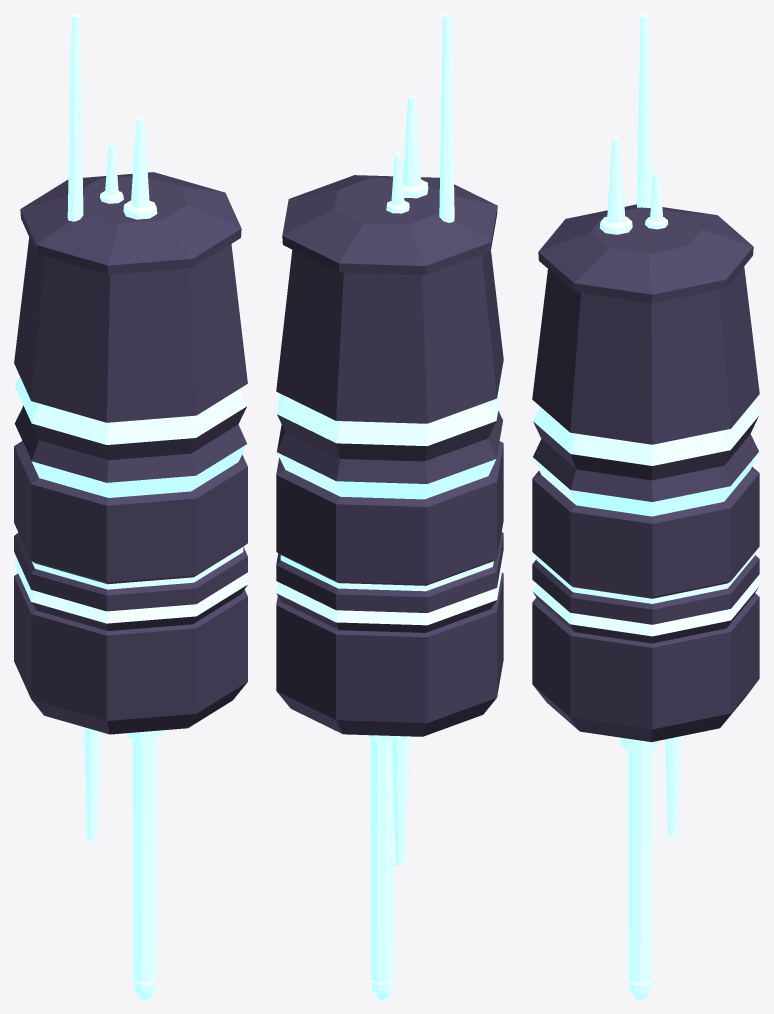
File: Fly_House_02.fbx
The picture shows the model from 3 angles, left to right: view 1: azimuth 30°, elevation 25°; view 2: azimuth 150°, elevation 25°; view 3: azimuth 270°, elevation 25°; orthographic projection. The views are drawn at different scales.
Visible parts, largest first — view 1: Fly_House_02; view 2: Fly_House_02; view 3: Fly_House_02.
Boxes of the visible parts, x1,y1,x2,y2 form: Fly_House_02: (14, 14, 247, 999); Fly_House_02: (276, 14, 503, 999); Fly_House_02: (532, 14, 759, 999).
Size of the model in its own units: 430 by 1988 by 430.
